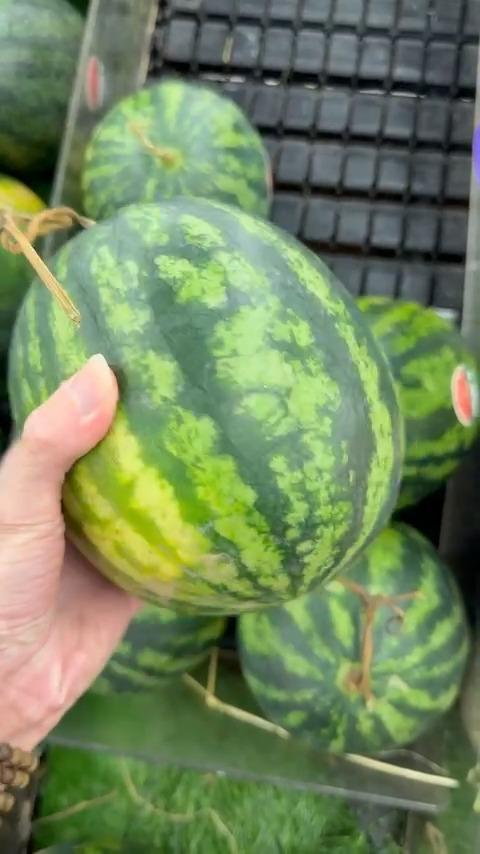watermelon: (0, 195, 386, 631), (242, 525, 468, 758), (83, 72, 274, 212), (367, 289, 480, 495), (7, 4, 76, 164)
